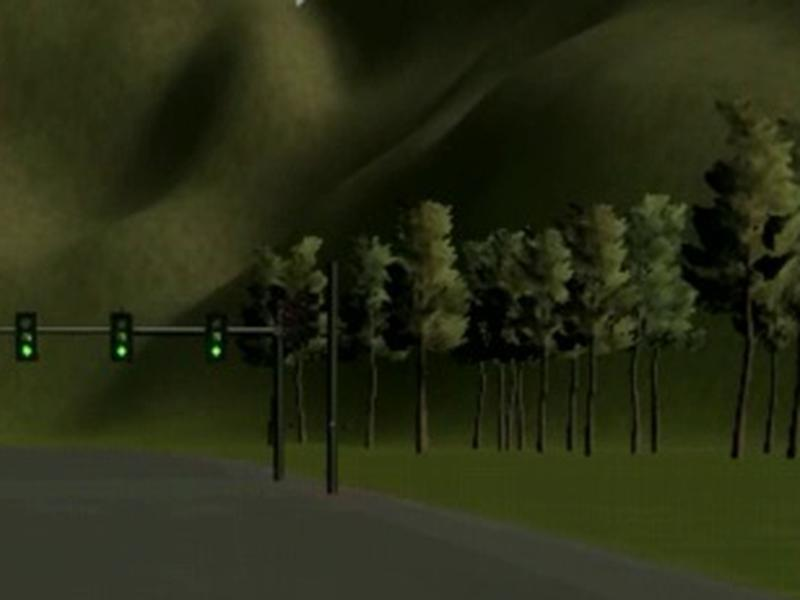Green: (12, 311, 38, 361), (110, 311, 134, 361), (205, 312, 228, 361)
